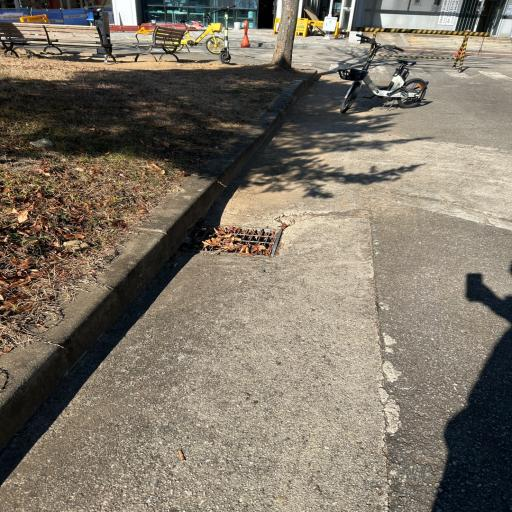debris: (203, 226, 248, 253), (251, 229, 277, 255), (242, 227, 255, 235), (257, 229, 262, 236)
drain: (182, 224, 279, 255)
